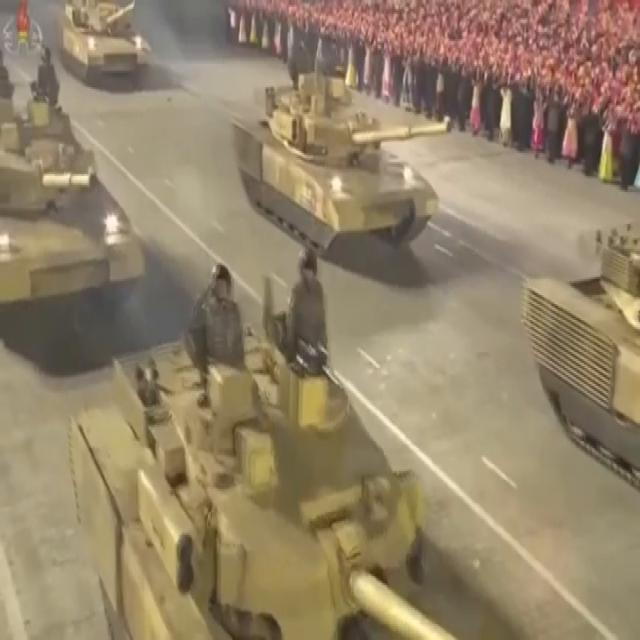north tank: (64, 267, 529, 640), (230, 47, 472, 285), (3, 60, 166, 360), (520, 182, 640, 486)
